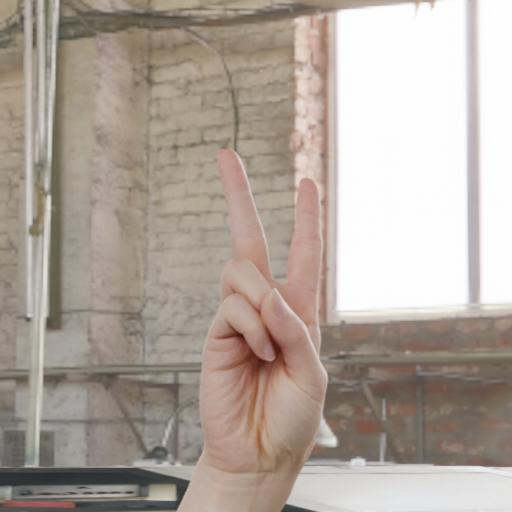V: (160, 132, 344, 512)
